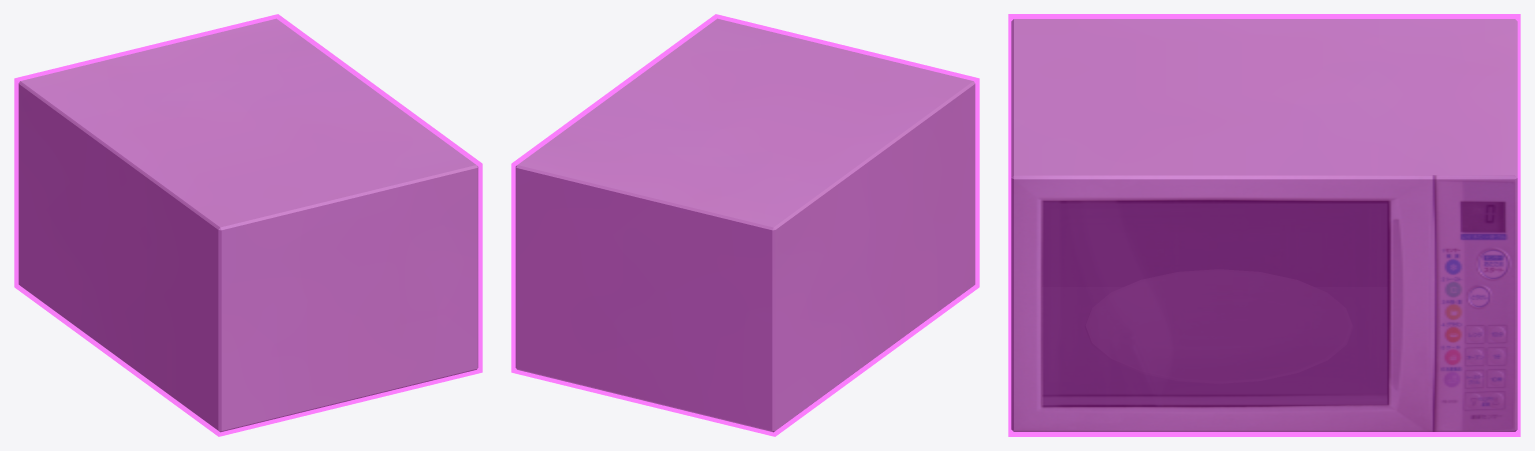
File: ovenrange_B.fbx
3 views of the same model, side by side, from view 1: azimuth 30°, elevation 25°; view 2: azimuth 150°, elevation 25°; view 3: azimuth 270°, elevation 25° (orthographic). The views are drawn at different scales.
Parts seen in each view (by area): view 1: ovenrange_B_boundingBox, hontai, door; view 2: ovenrange_B_boundingBox, hontai, door; view 3: ovenrange_B_boundingBox, door, hontai.
Boxes of the visible parts, box(x1,y1,x2,y2) form: ovenrange_B_boundingBox: box(14, 14, 482, 436); hontai: box(18, 18, 464, 432); door: box(295, 42, 478, 372); ovenrange_B_boundingBox: box(511, 14, 979, 436); hontai: box(515, 22, 975, 432); door: box(550, 18, 730, 144); ovenrange_B_boundingBox: box(1008, 14, 1520, 436); door: box(1011, 167, 1434, 431); hontai: box(1011, 19, 1517, 431).
Size of the model in its own units: 33.95 by 25.69 by 45.56.
4 materials, 2 textured.
